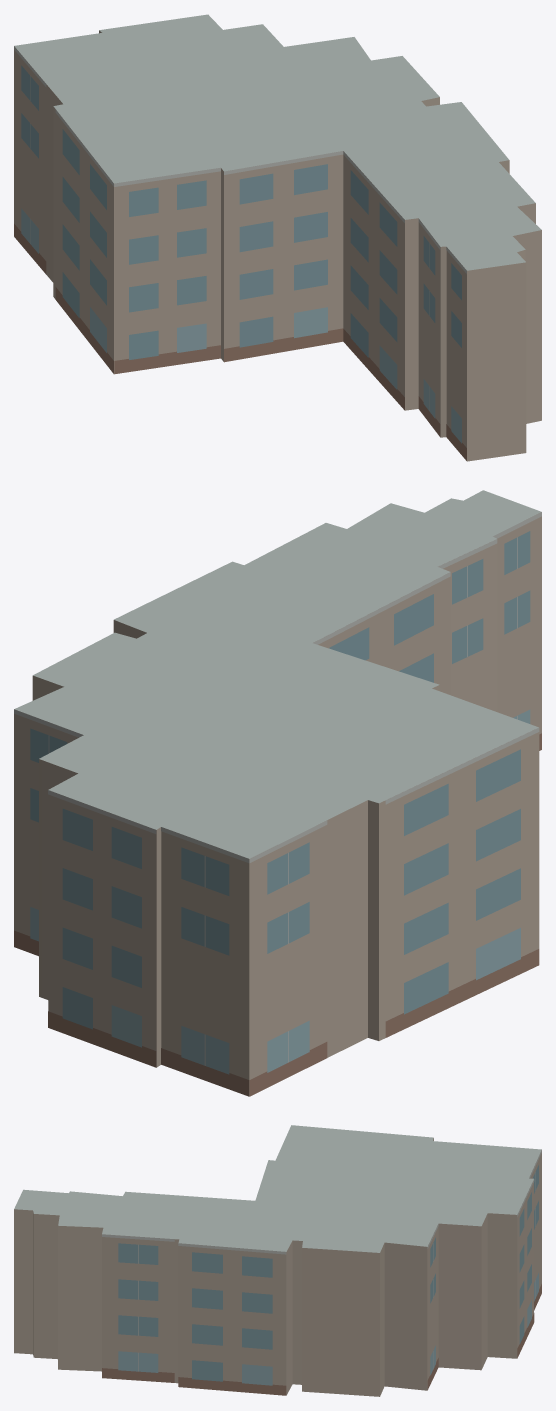
File: survey-upis-32502306.glb
The picture shows the model from 3 angles, top to bottom: view 1: azimuth 30°, elevation 25°; view 2: azimuth 150°, elevation 25°; view 3: azimuth 270°, elevation 25°; orthographic projection. The views are drawn at different scales.
Visible parts, largest first — view 1: survey-upis-32502306.tmp; view 2: survey-upis-32502306.tmp; view 3: survey-upis-32502306.tmp.
Part boxes in pixels (x1,y1,x2,y2): survey-upis-32502306.tmp: (14, 14, 541, 461); survey-upis-32502306.tmp: (14, 490, 541, 1096); survey-upis-32502306.tmp: (14, 1125, 541, 1396).
Bounding box in the file's own units: 24.78 × 13 × 43.23.
